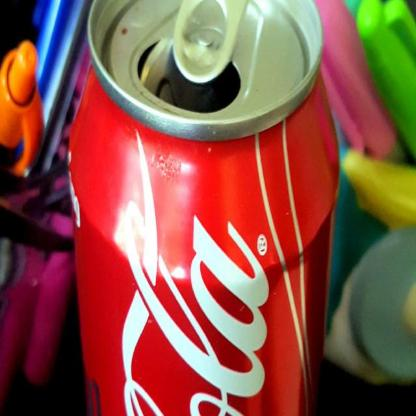Can: (67, 0, 341, 416)
